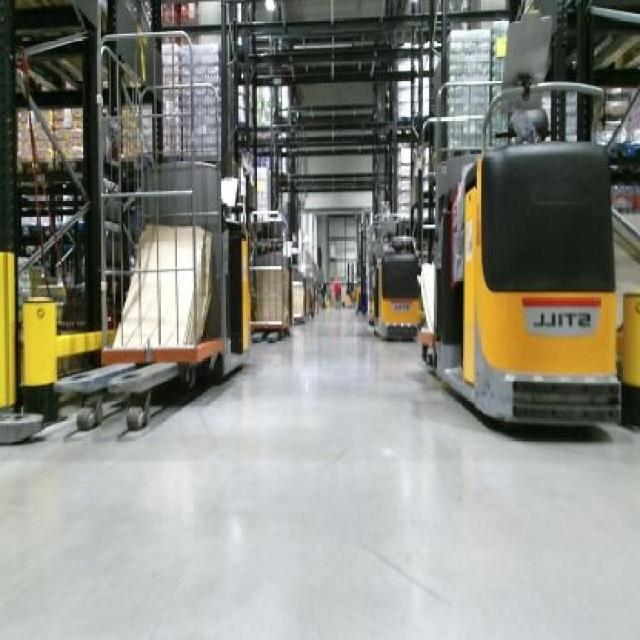floor: (0, 308, 637, 637)
pallets: (52, 362, 132, 428), (106, 360, 177, 428), (617, 291, 637, 422)
